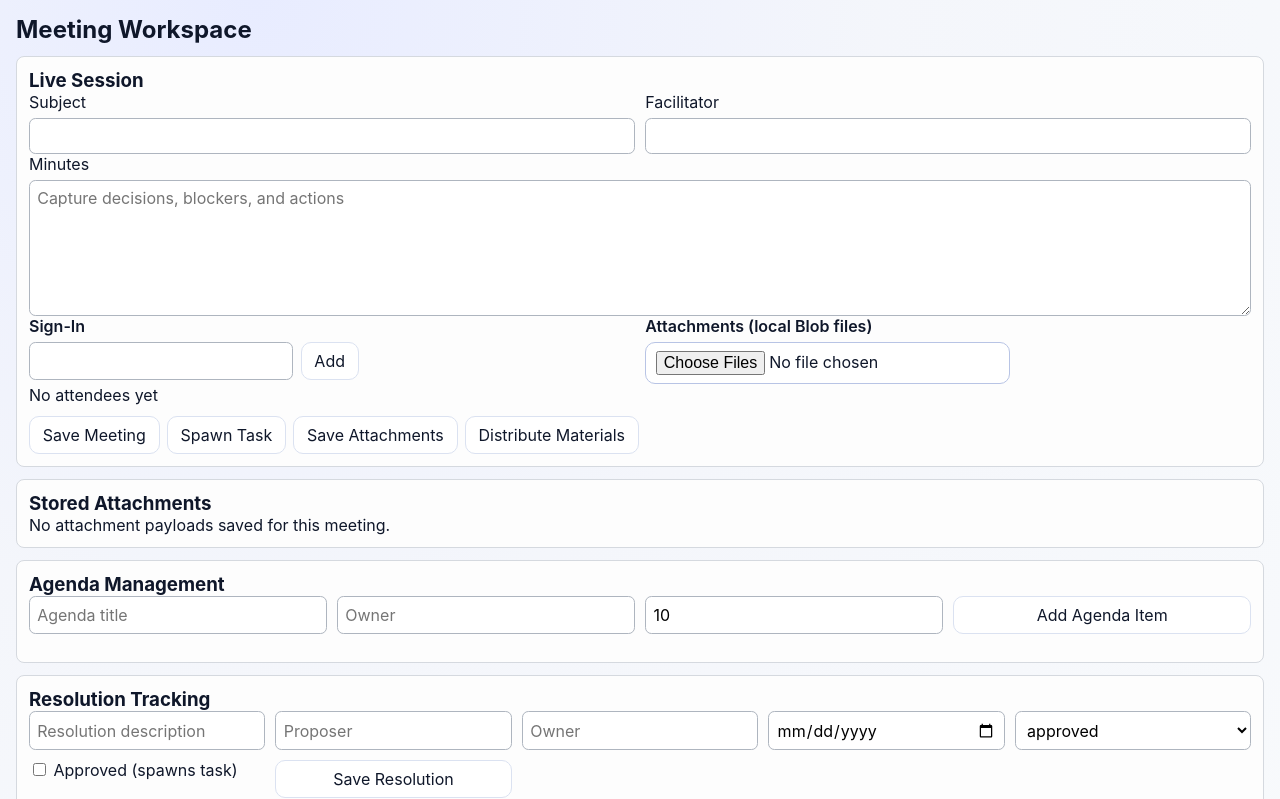
Scenario: MeetingWorkspace › Save Meeting persists a meeting row via the real DAL and renders it in Recent Meetings
The width and height of the screenshot is (1280, 799).
Expected: the button "Save Meeting" is shown, left=29, top=416, right=160, bottom=454
Step 1. Type "Shift Handoff Standup" into the field labelled "Subject" → (332,136), box left=29, top=118, right=635, bottom=154
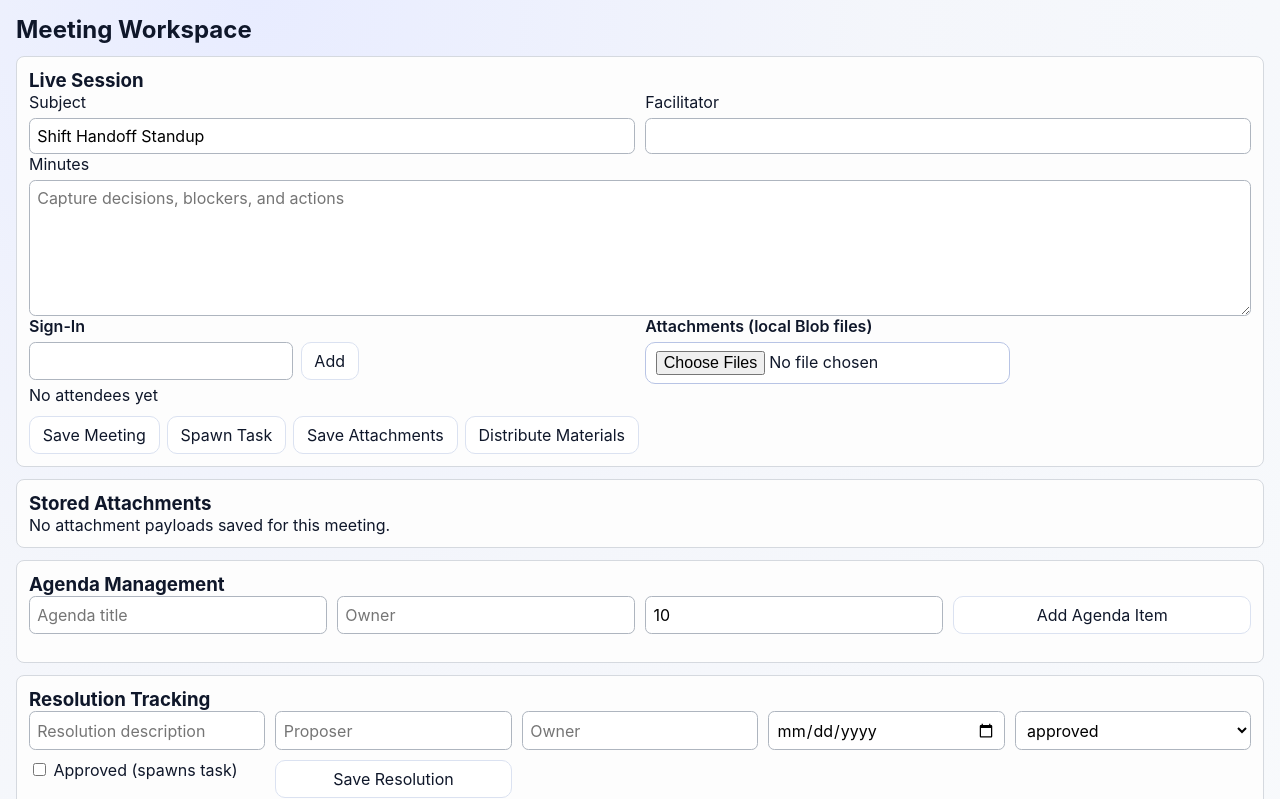
Step 2. Type "alice" into the field labelled "Facilitator" → (948,136), box left=645, top=118, right=1251, bottom=154
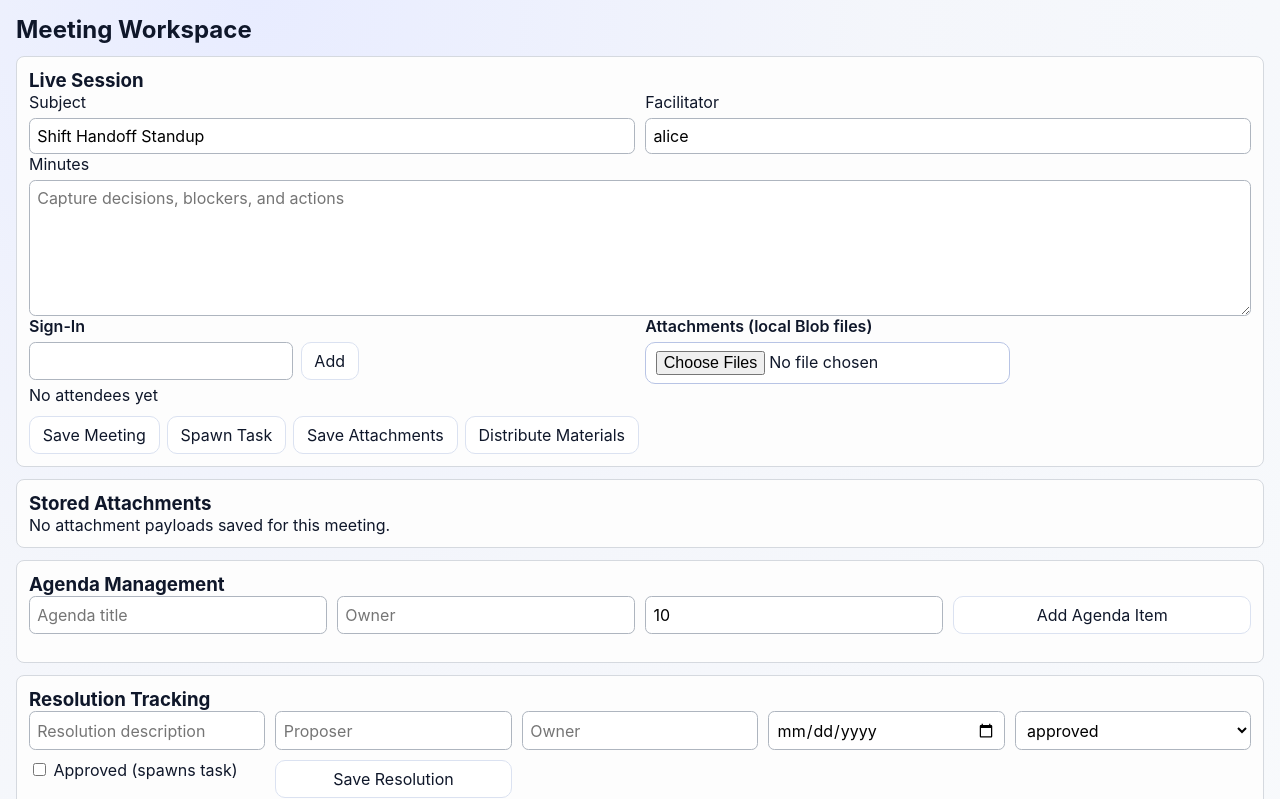
Step 3. Click the button "Save Meeting" → (94,435), box left=29, top=416, right=160, bottom=454
(page scrolled)
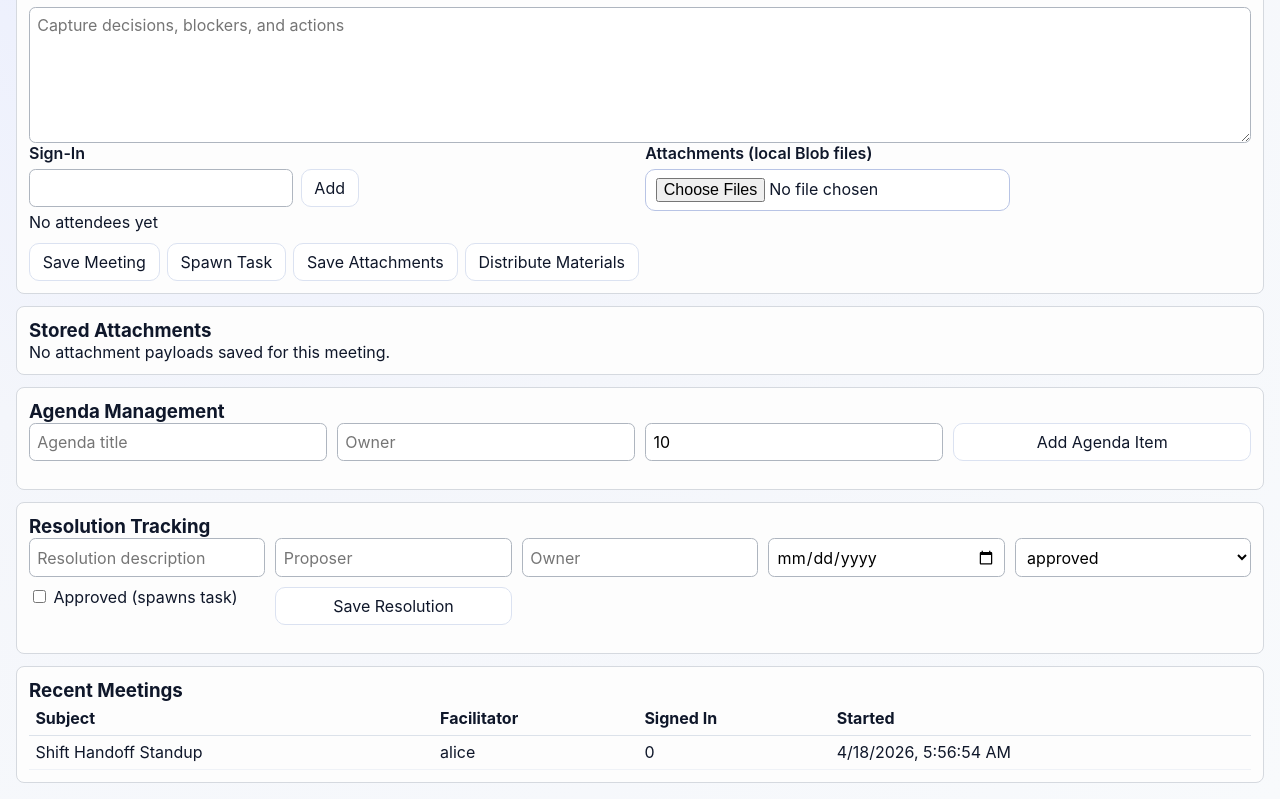
Expected: the text "Shift Handoff Standup" is shown, left=29, top=735, right=434, bottom=769
